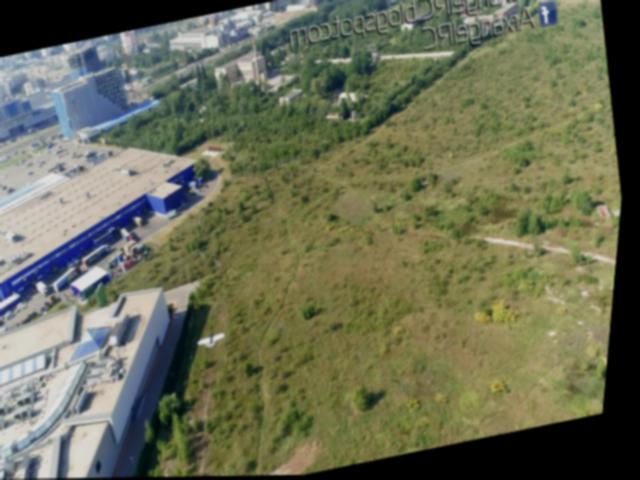plane: (203, 331, 233, 354)
